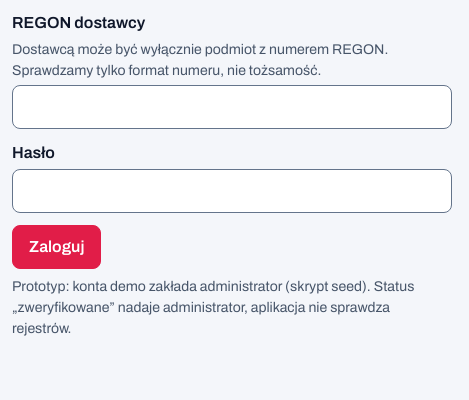
RegonLogin › niepoprawny format REGON: komunikat bez zapytania do API
In the field labelled "REGON dostawcy": (232,107) [12, 85, 452, 129], type "123456789"
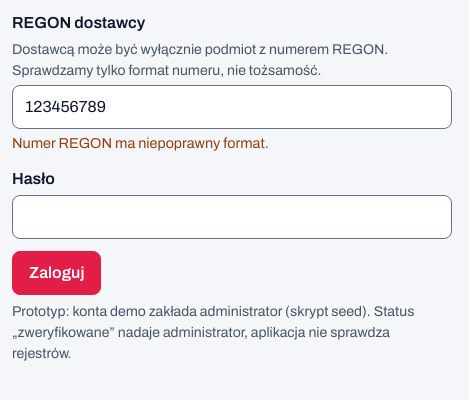
In the password field labelled "Hasło": (232,217) [12, 195, 452, 239], type "x"
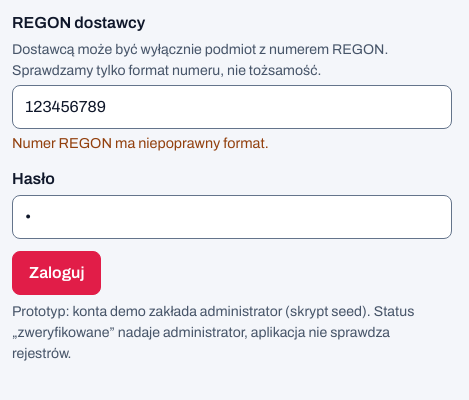
Click the button "Zaloguj": (57,273) [12, 251, 101, 295]
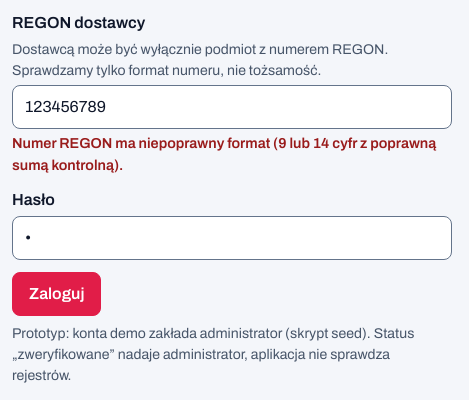
Expected: the text "Numer REGON ma niepoprawny format (9 lub 14 cyfr z poprawną sumą kontrolną)." is shown, [12, 133, 452, 176]
